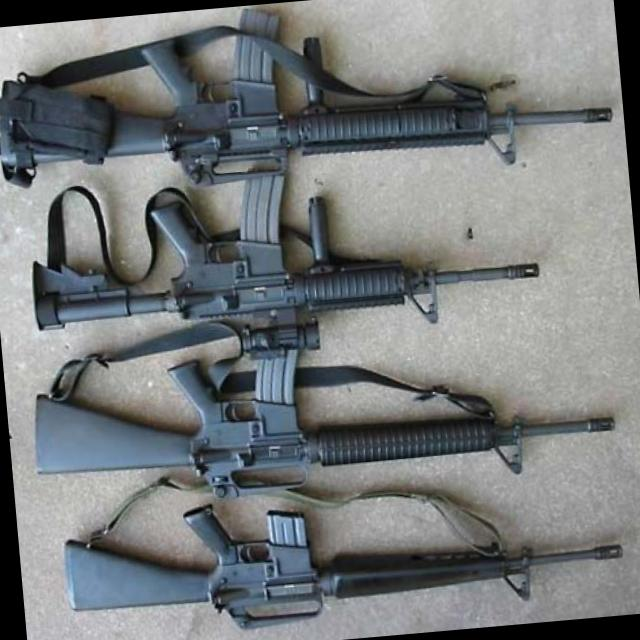Weapon: (8, 147, 578, 352), (0, 0, 617, 189), (22, 316, 630, 507), (56, 467, 640, 640)
